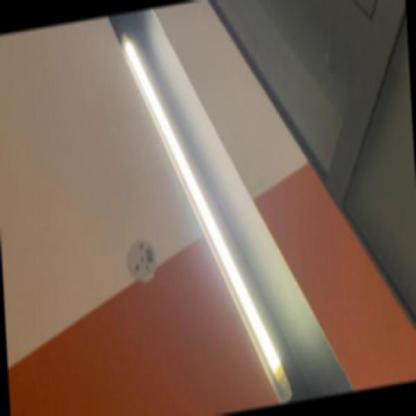light_on: (110, 0, 297, 415)
